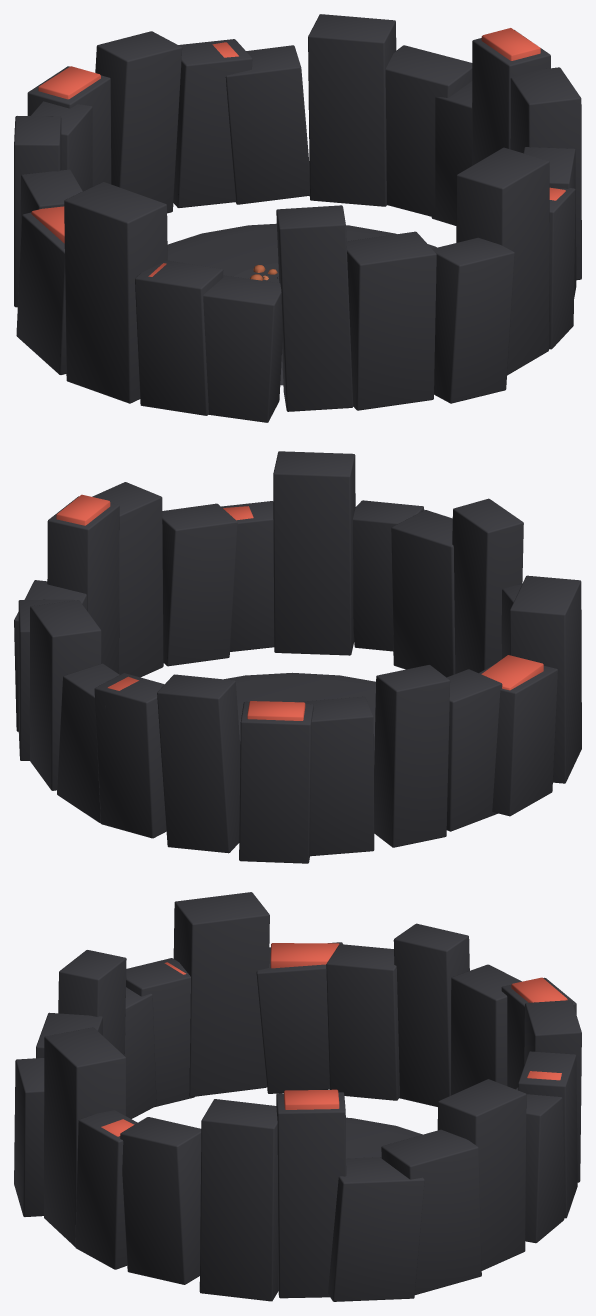
File: cinder_jackal.glb
3 views of the same model, one above another, from view 1: azimuth 30°, elevation 25°; view 2: azimuth 150°, elevation 25°; view 3: azimuth 270°, elevation 25° (orthographic). The views are drawn at different scales.
Parts seen in each view (by area): view 1: CinderJackalGround; view 2: CinderJackalGround; view 3: CinderJackalGround.
Part boxes in pixels (x1,y1,x2,y2): CinderJackalGround: [14, 14, 581, 422]; CinderJackalGround: [14, 451, 581, 863]; CinderJackalGround: [14, 892, 581, 1301].
Bounding box in the file's own units: 46.11 × 17.69 × 45.84.
Materials: 1 (1 with a texture image).
